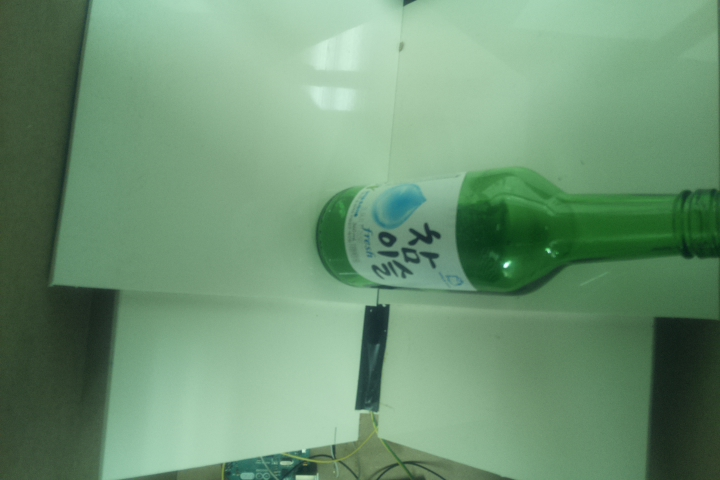soju: (315, 164, 720, 295)
